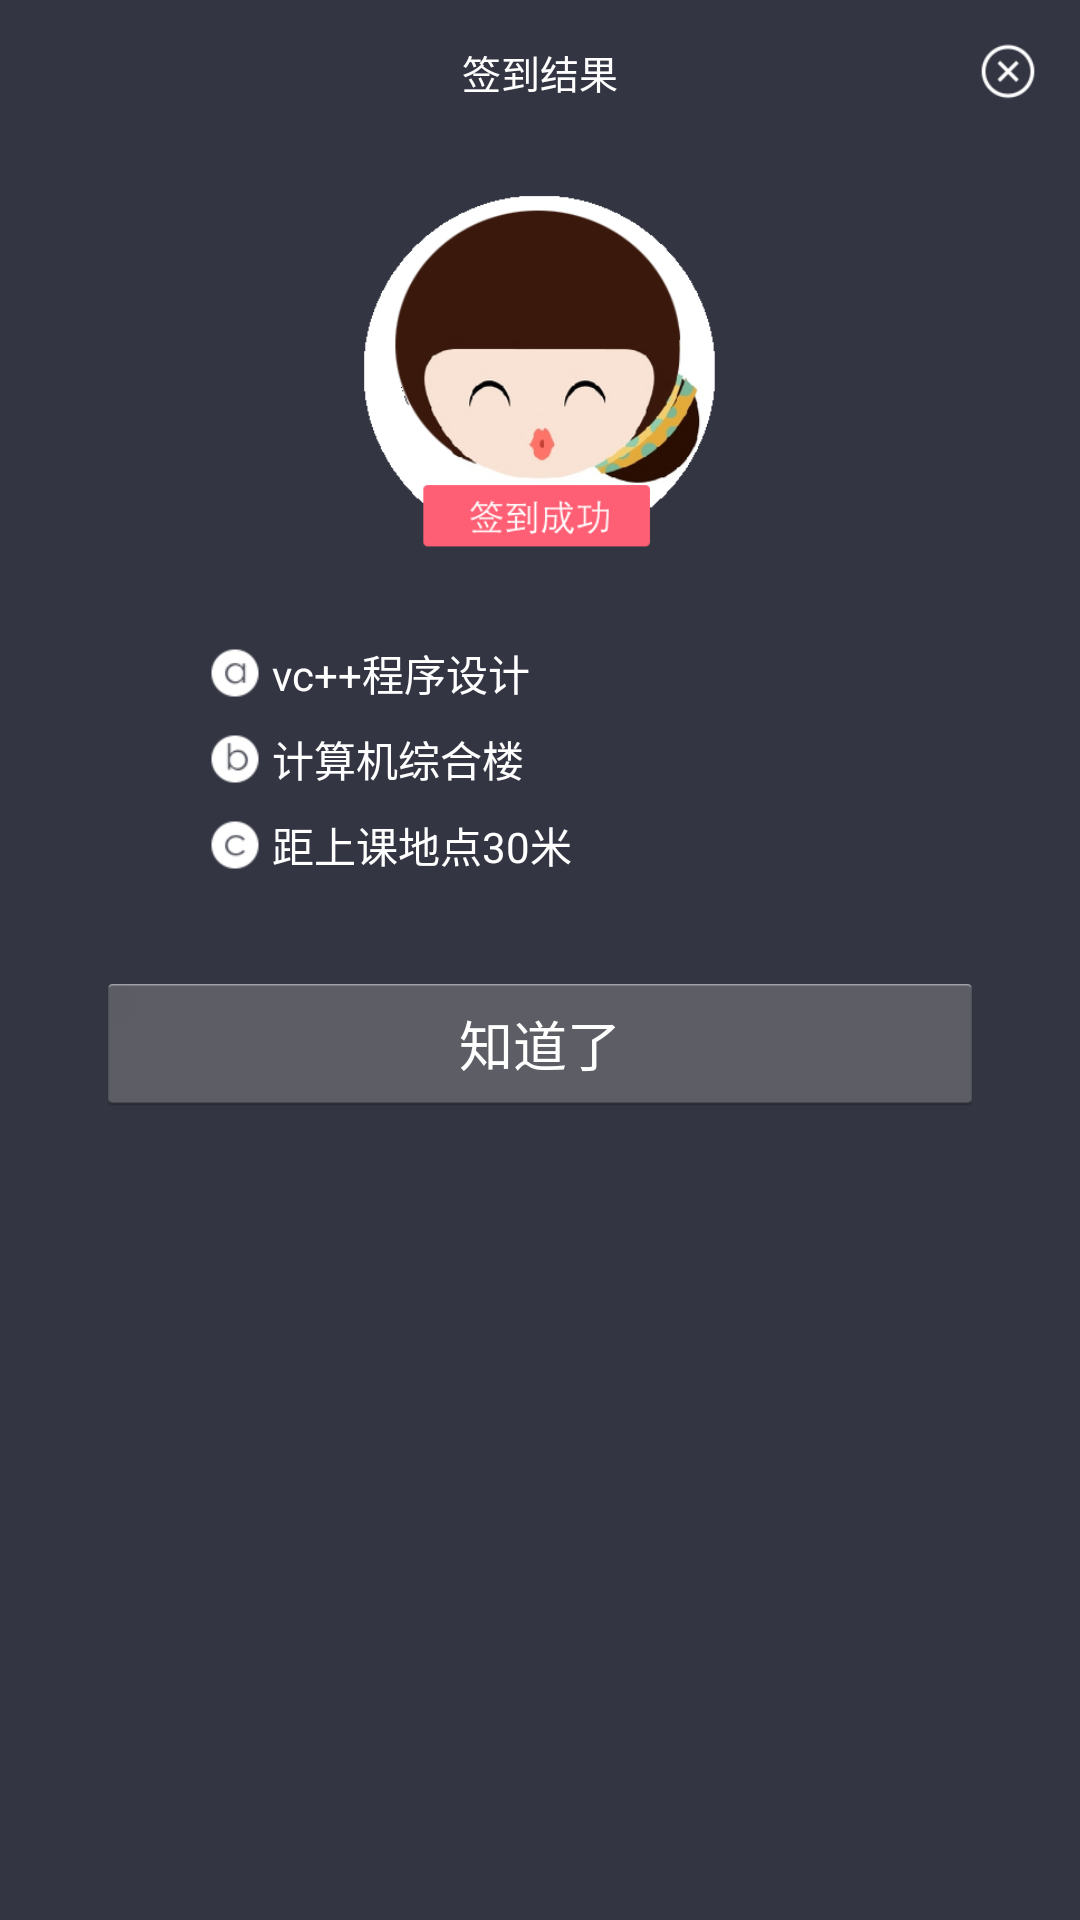

Icons on this 1080px x 1920px Android screen, each with the point to tap as (x=x, y=y):
del: (x=1008, y=71)
